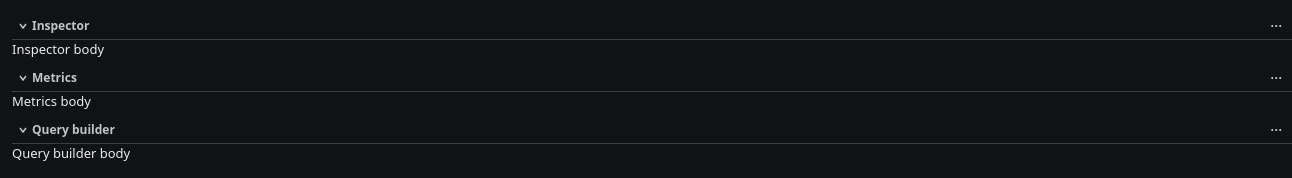
it: SidePanelStack folding a whole panel › folds a panel from its name in the header, keeping its contents in the page, and gives its room to the rest
The image size is (1292, 178).
Click the button "Metrics".
click(54, 77)  # box [14,66,1260,90]
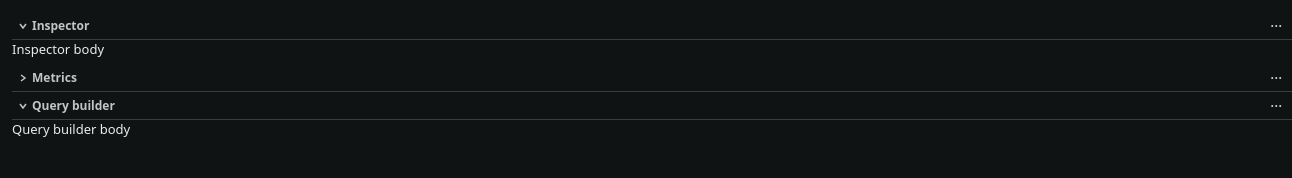
Now the button "Metrics" is collapsed
Click the button "Metrics".
click(54, 77)  # box [14,66,1260,90]
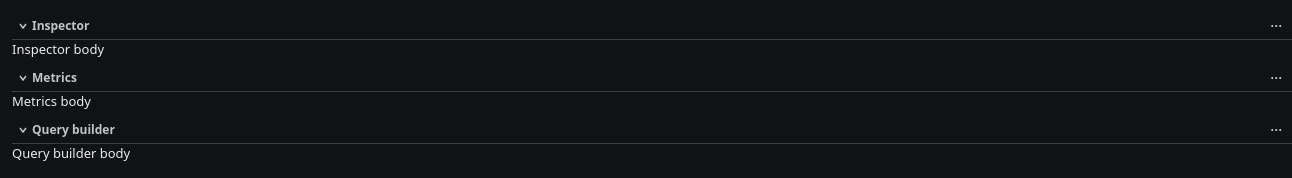
Now the button "Metrics" is expanded, box [14,66,1260,90]
